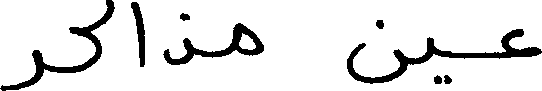ا: (131, 0, 145, 68)
ذ: (161, 10, 193, 65)
ر: (0, 48, 45, 89)
ع: (499, 26, 540, 57)
ك: (67, 0, 114, 74)
م: (231, 20, 265, 55)
ن: (344, 17, 406, 84)
ي: (423, 35, 449, 86)
